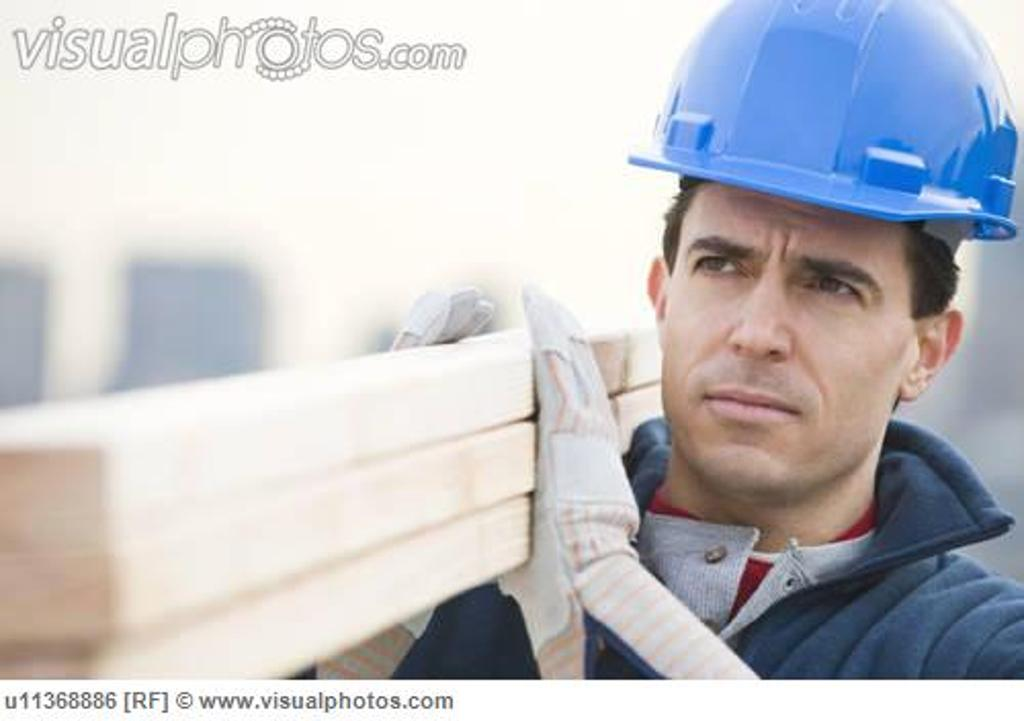face: (678, 138, 908, 462)
